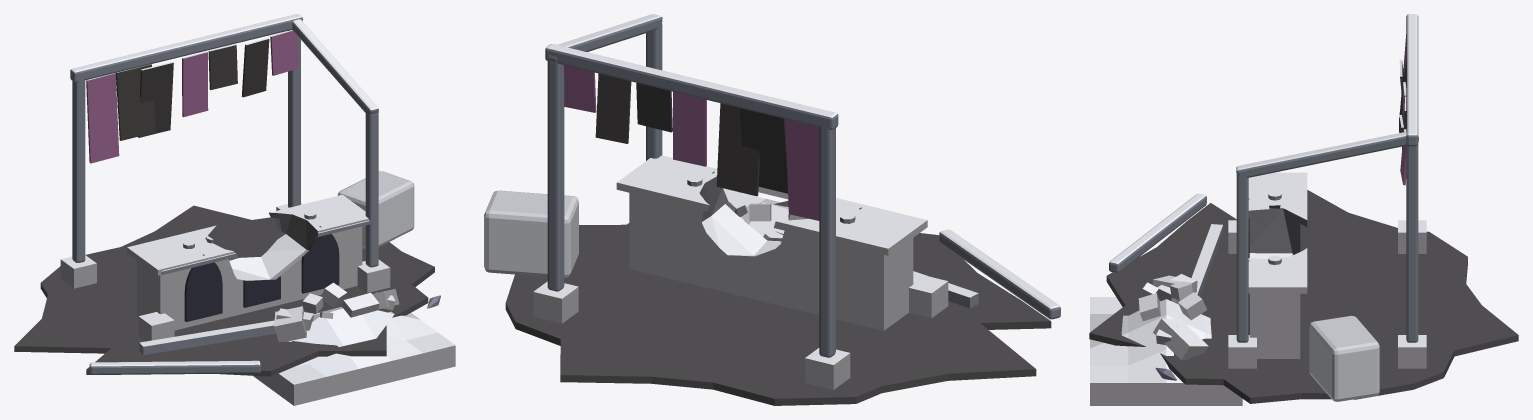
File: PR_Tenda_Destruida_B.fbx
3 views of the same model, side by side, from view 1: azimuth 30°, elevation 25°; view 2: azimuth 150°, elevation 25°; view 3: azimuth 270°, elevation 25° (orthographic). The views are drawn at different scales.
Parts seen in each view (by area): view 1: PR_Tenda_Destruida_B; view 2: PR_Tenda_Destruida_B; view 3: PR_Tenda_Destruida_B.
Boxes of the visible parts, <box> form: PR_Tenda_Destruida_B: <box>14,14,455,405</box>; PR_Tenda_Destruida_B: <box>484,14,1060,405</box>; PR_Tenda_Destruida_B: <box>1089,14,1518,405</box>.
Size of the model in its own units: 6.16 by 3.48 by 5.06.
